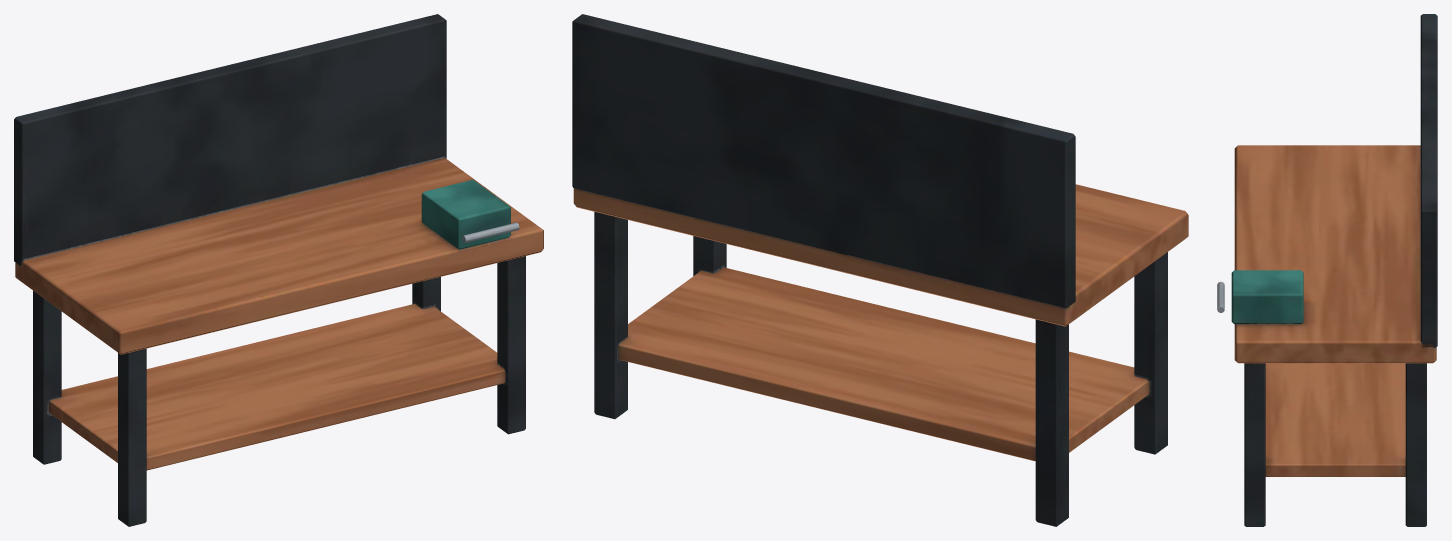
The model's file is workbench_heavy.glb.
3 renders of one model, left to right at view 1: azimuth 30°, elevation 25°; view 2: azimuth 150°, elevation 25°; view 3: azimuth 270°, elevation 25°, orthographic. The views are drawn at different scales.
Visible parts, largest first — view 1: WorkbenchHeavy; view 2: WorkbenchHeavy; view 3: WorkbenchHeavy.
Boxes of the visible parts, bbox=[...] form: WorkbenchHeavy: bbox=[14, 14, 543, 526]; WorkbenchHeavy: bbox=[572, 14, 1188, 526]; WorkbenchHeavy: bbox=[1217, 14, 1437, 526].
Bounding box in the file's own units: 2.2 × 1.68 × 1.04.
1 material, 1 textured.
